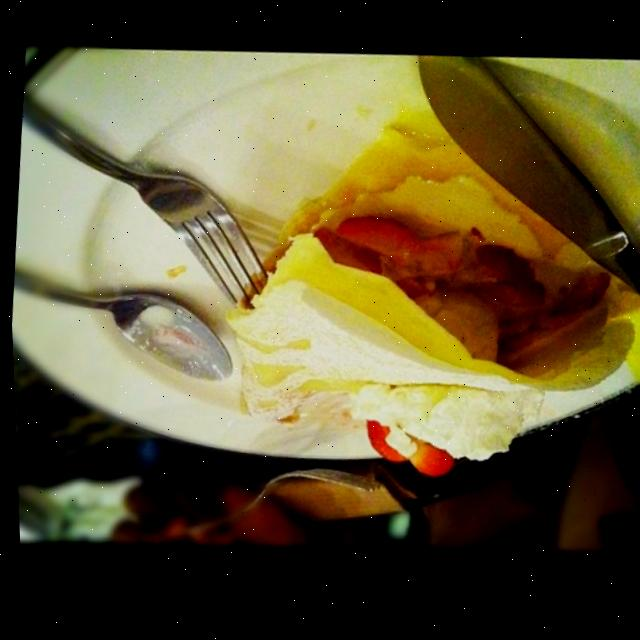蛋糕甜品: (16, 0, 640, 568)
